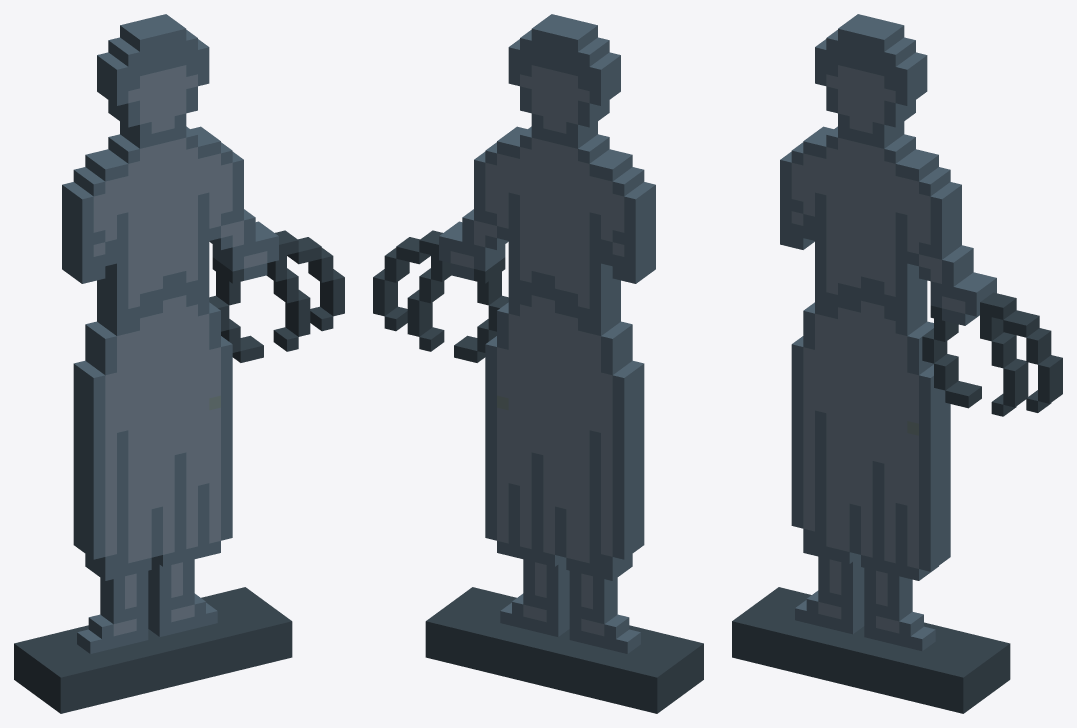
File: CharioteerOfDelphi2.fbx
The picture shows the model from 3 angles, left to right: view 1: azimuth 30°, elevation 25°; view 2: azimuth 150°, elevation 25°; view 3: azimuth 330°, elevation 25°; orthographic projection.
Parts seen in each view (by area): view 1: generated; view 2: generated; view 3: generated.
Part boxes in pixels (<box>): generated: <box>14,14,344,713</box>; generated: <box>373,14,703,713</box>; generated: <box>732,14,1062,713</box>.
Bounding box in the file's own units: 26 × 53 × 7.
